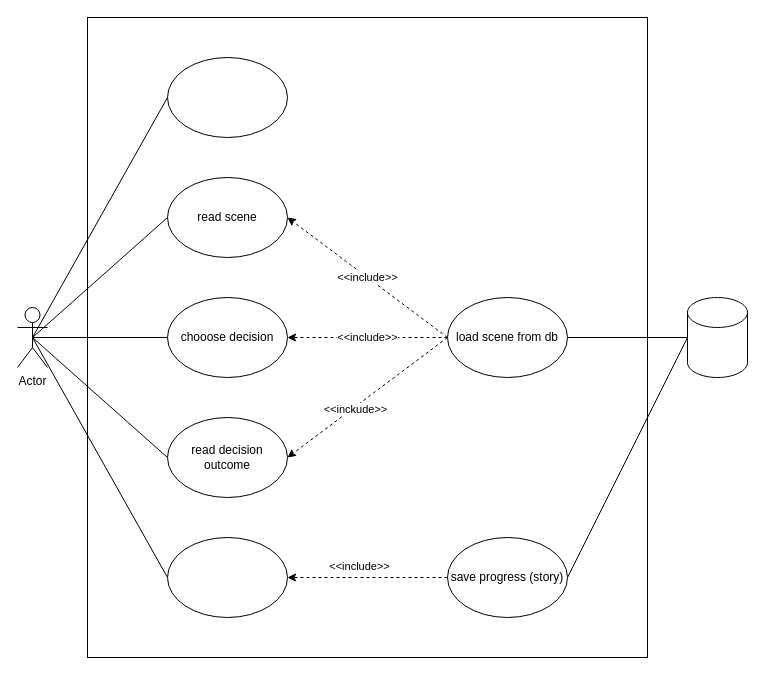
This 765x675 diagram has some shape labels left out. Here are the shapes that lost their labels. From the top down, the centre of each, then its label:
At (x=227, y=97): "start program".
At (x=717, y=337): "DB".
At (x=227, y=577): "end program".
